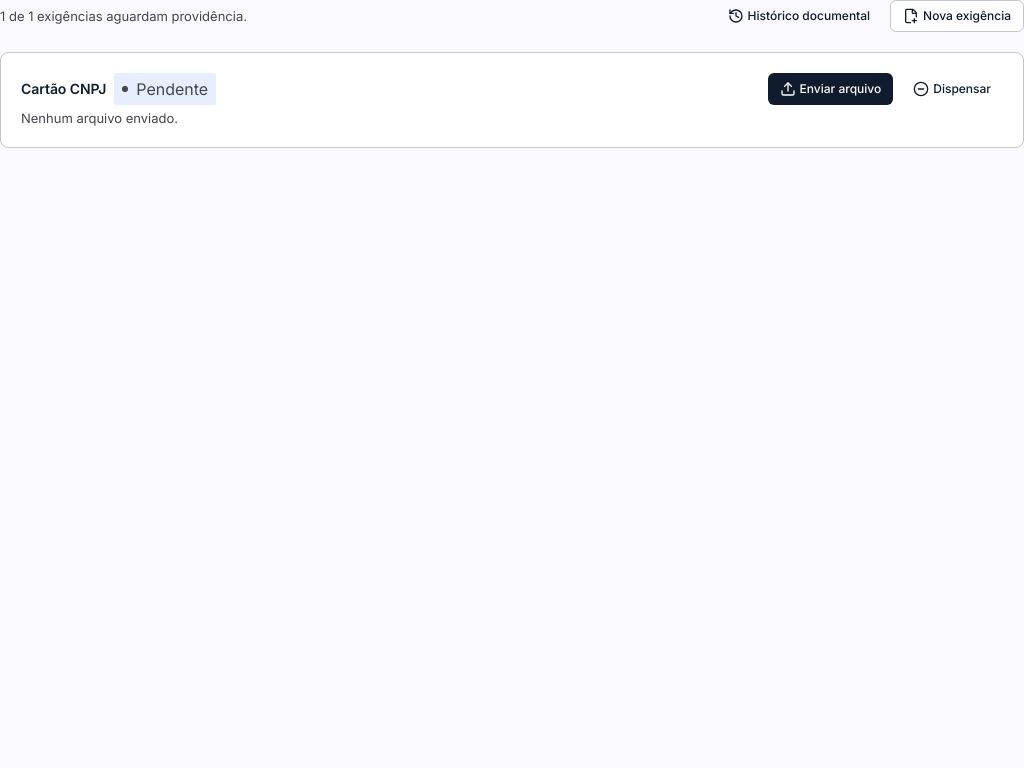
Test: análise é explícita e separada do envio (§2.3) › dispensar exige justificativa e não pede arquivo
Click the button "Dispensar": coordinates (952, 89) [901,73,1003,105]
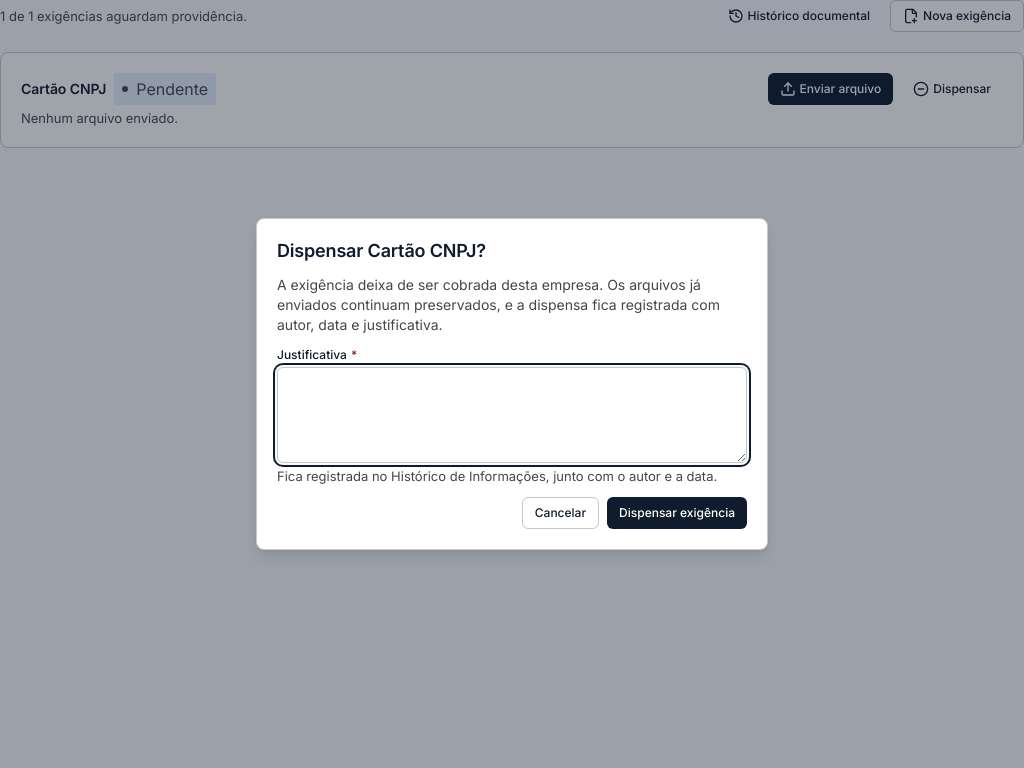
expect the dialog shows "justificativa": met, box [277,347,347,362]
expect the dialog shows "deixa de ser cobrada": met, box [277,276,720,333]
